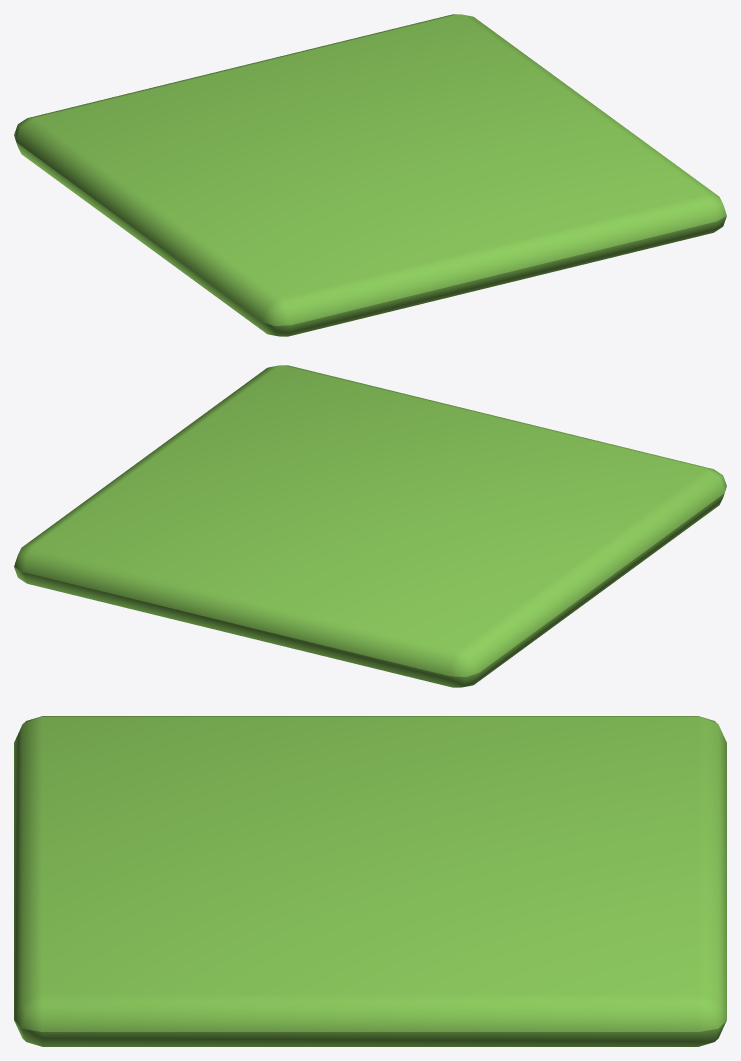
File: SM_Path_Tile.fbx
3 renders of one model, top to bottom at view 1: azimuth 30°, elevation 25°; view 2: azimuth 150°, elevation 25°; view 3: azimuth 270°, elevation 25°, orthographic. The views are drawn at different scales.
Parts seen in each view (by area): view 1: SM_Path_Tile; view 2: SM_Path_Tile; view 3: SM_Path_Tile.
Part boxes in pixels (x1=…): SM_Path_Tile: x1=14, y1=14, x2=726, y2=336; SM_Path_Tile: x1=14, y1=365, x2=726, y2=687; SM_Path_Tile: x1=14, y1=716, x2=726, y2=1046.
Size of the model in its own units: 100 by 8 by 100.
